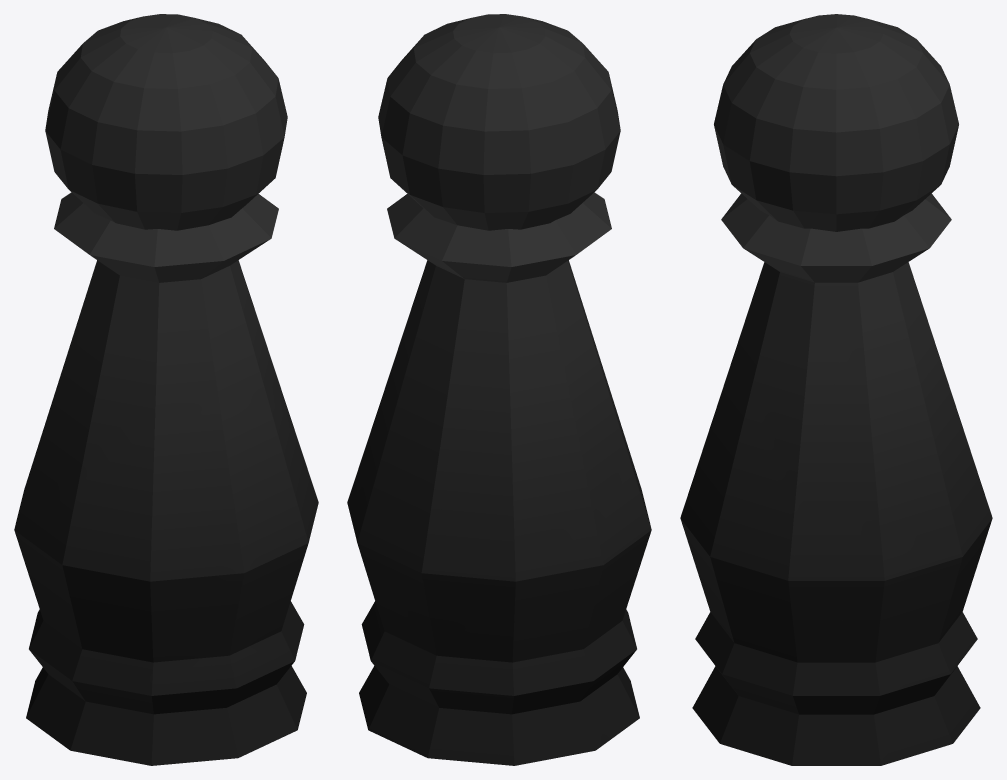
The model's file is pion echec.fbx.
3 renders of one model, left to right at view 1: azimuth 30°, elevation 25°; view 2: azimuth 150°, elevation 25°; view 3: azimuth 270°, elevation 25°, orthographic.
Visible parts, largest first — view 1: Cylinder.009; view 2: Cylinder.009; view 3: Cylinder.009.
Part boxes in pixels (<box>): Cylinder.009: <box>14,14,318,765</box>; Cylinder.009: <box>347,14,651,765</box>; Cylinder.009: <box>680,14,992,765</box>.
Bounding box in the file's own units: 16.06 × 16.89 × 40.59.
